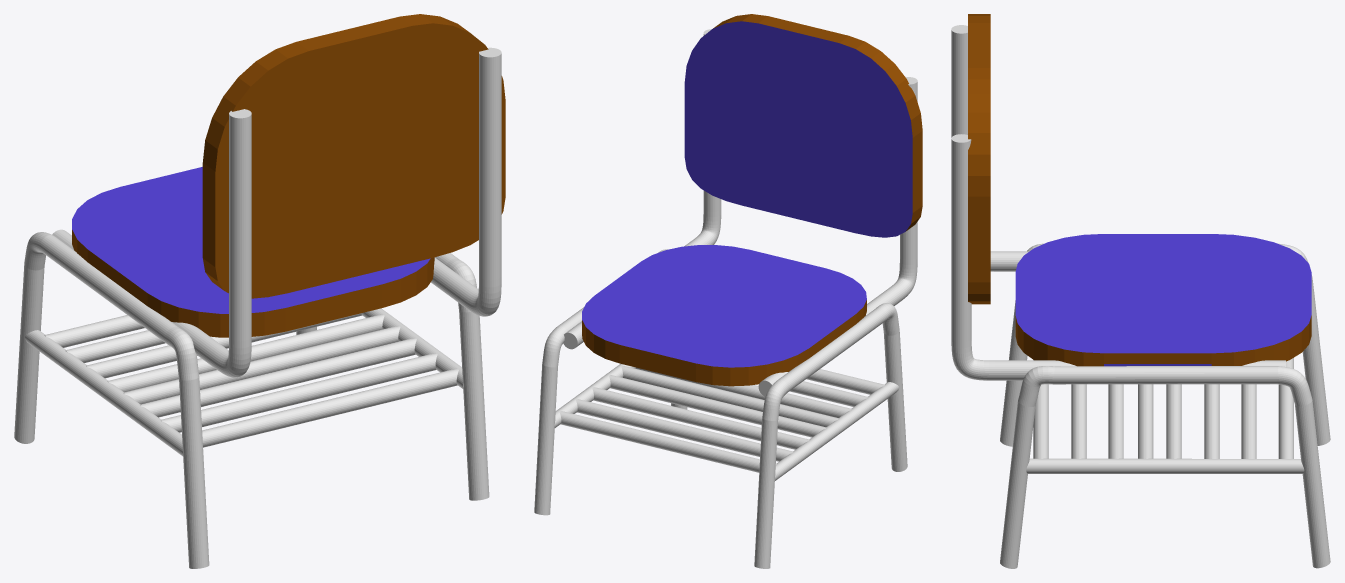
File: SillaPhotorealistica.fbx
3 renders of one model, left to right at view 1: azimuth 30°, elevation 25°; view 2: azimuth 150°, elevation 25°; view 3: azimuth 270°, elevation 25°, orthographic. The views are drawn at different scales.
Visible parts, largest first — view 1: Cube.001, Grilla de abajo, Cube, Patas de abajo, patas de arriba; view 2: Cube.001, Cube, Grilla de abajo, Patas de abajo, patas de arriba; view 3: Cube, Patas de abajo, Grilla de abajo, patas de arriba, Cube.001.
Part boxes in pixels (<box>): Cube.001: <box>202,14,505,298</box>; Grilla de abajo: <box>25,308,463,456</box>; Cube: <box>72,167,434,337</box>; Patas de abajo: <box>14,232,489,568</box>; patas de arriba: <box>52,47,501,377</box>; Cube.001: <box>684,14,922,237</box>; Cube: <box>582,245,866,386</box>; Grilla de abajo: <box>554,363,899,480</box>; Patas de abajo: <box>534,249,907,568</box>; patas de arriba: <box>563,29,917,396</box>; Cube: <box>1015,234,1311,366</box>; Patas de abajo: <box>1000,243,1330,568</box>; Grilla de abajo: <box>1026,349,1305,473</box>; patas de arriba: <box>951,25,1285,380</box>; Cube.001: <box>968,14,990,304</box>.
Bounding box in the file's own units: 164 × 269 × 202.
